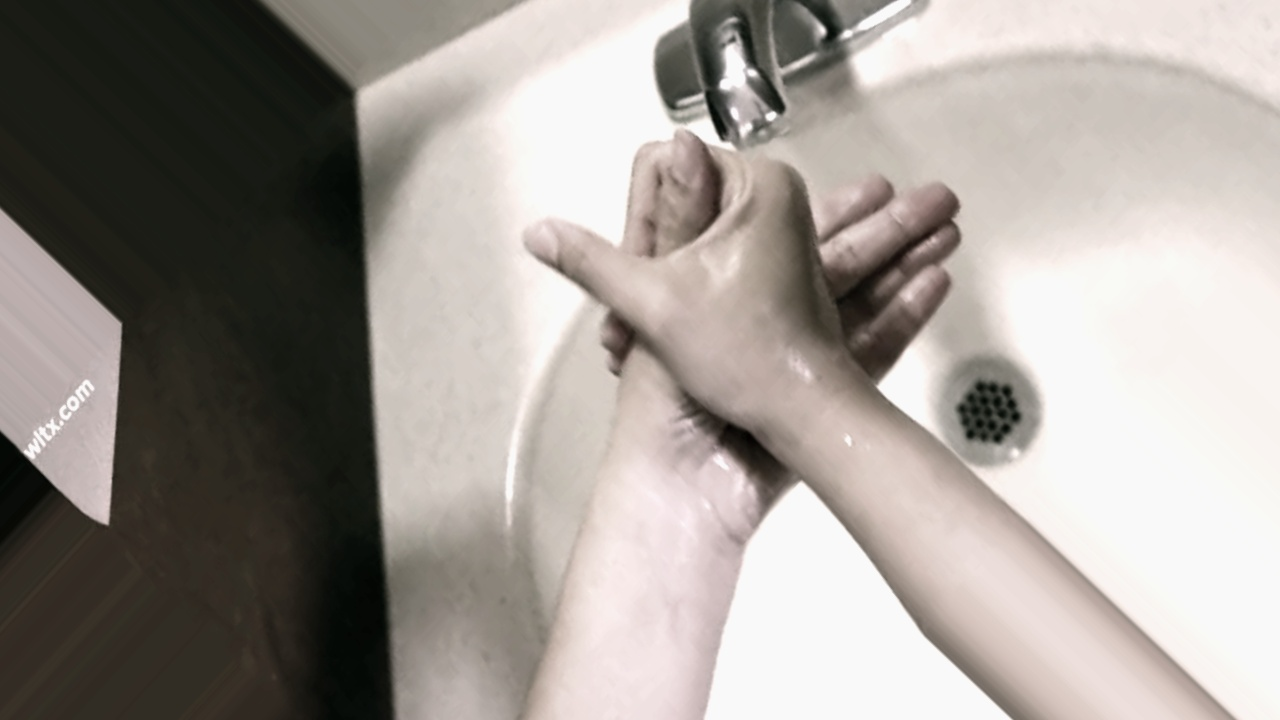washing hand: (380, 0, 1265, 658)
